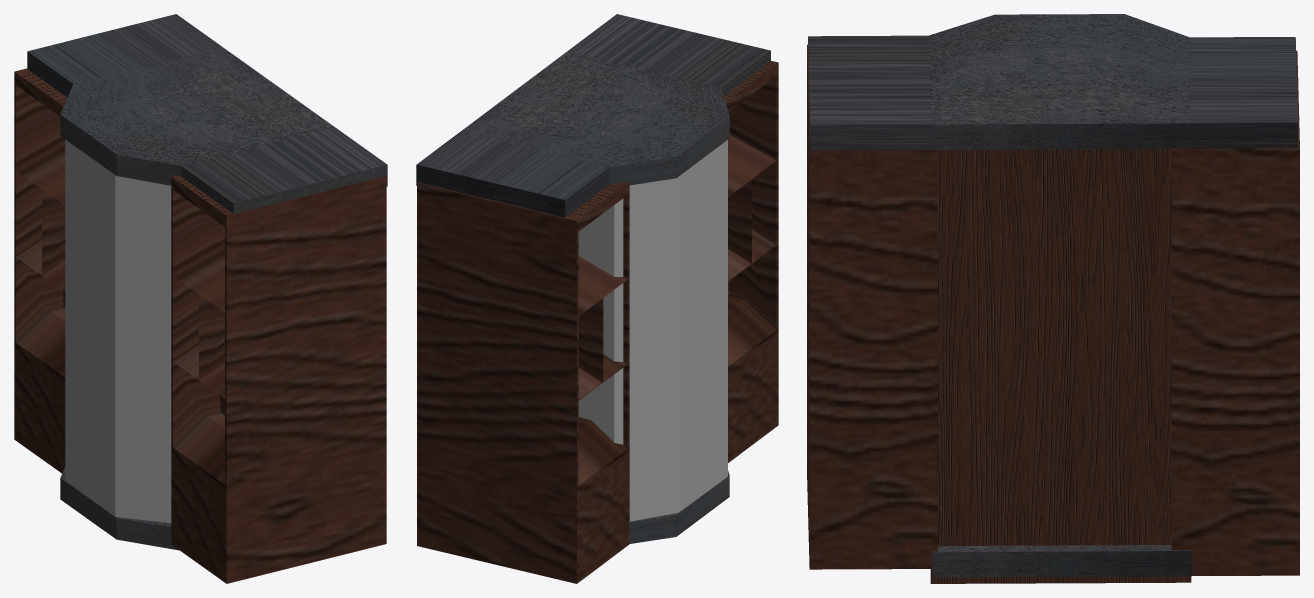
File: vitrinenschrank.glb
3 renders of one model, left to right at view 1: azimuth 30°, elevation 25°; view 2: azimuth 150°, elevation 25°; view 3: azimuth 270°, elevation 25°, orthographic. The views are drawn at different scales.
Parts seen in each view (by area): view 1: Object_6, Object_2, Object_3, Object_5; view 2: Object_5, Object_2, Object_3, Object_6; view 3: Object_7, Object_2, Object_6, Object_5.
Boxes of the visible parts, box(x1,y1,x2,y2) form: Object_6: box(171, 175, 386, 583); Object_2: box(27, 14, 387, 550); Object_3: box(65, 139, 171, 523); Object_5: box(14, 68, 67, 473); Object_5: box(417, 182, 629, 583); Object_2: box(416, 14, 770, 543); Object_3: box(578, 140, 727, 521); Object_6: box(724, 61, 778, 462); Object_7: box(930, 148, 1191, 583); Object_2: box(808, 14, 1297, 577); Object_6: box(807, 44, 937, 569); Object_5: box(1171, 50, 1299, 575).
Size of the model in its own units: 1.27 by 2.47 by 2.37.
6 materials, 4 textured.
